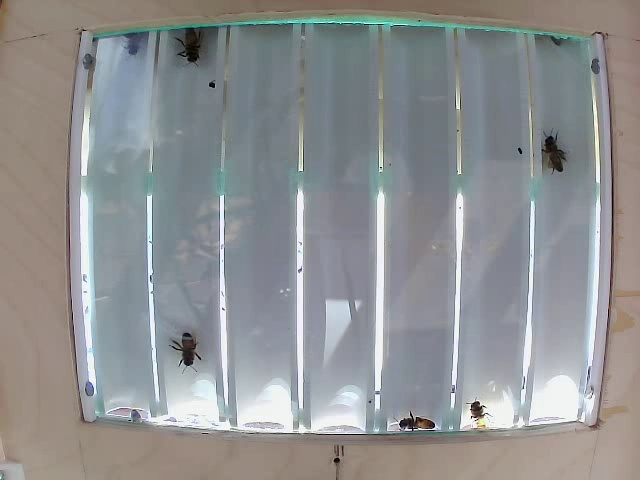bee: (530, 123, 562, 178), (169, 323, 198, 374)
